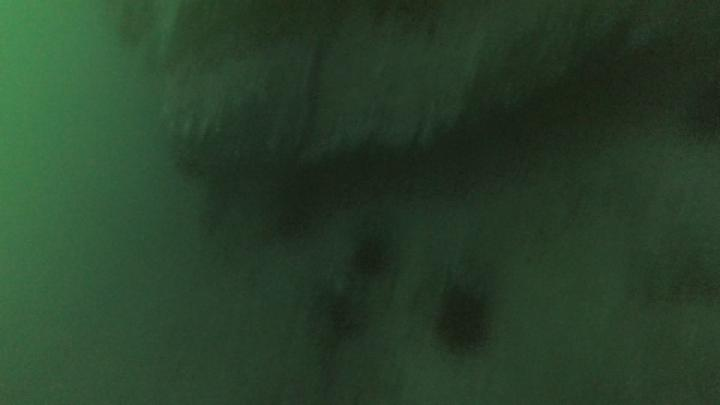echinus: (427, 283, 495, 356), (345, 232, 394, 281)
